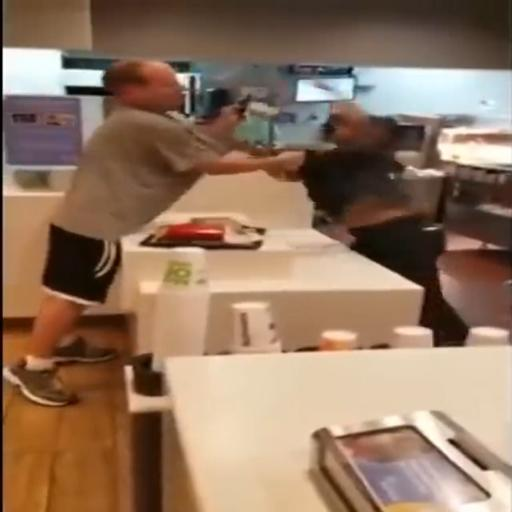violencia: (8, 46, 475, 392)
